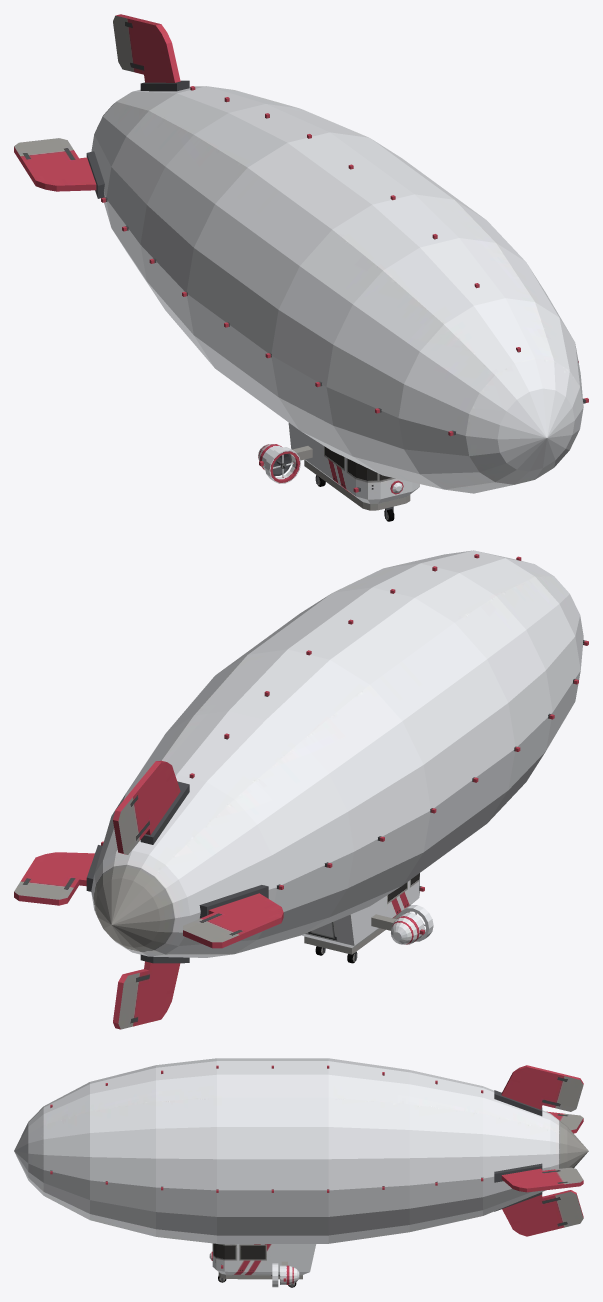
File: Blimp-transformed.glb
3 renders of one model, top to bottom at view 1: azimuth 30°, elevation 25°; view 2: azimuth 150°, elevation 25°; view 3: azimuth 270°, elevation 25°, orthographic. The views are drawn at different scales.
Visible parts, largest first — view 1: c; view 2: c; view 3: c.
Part boxes in pixels (x1,y1,x2,y2): c: (14, 14, 588, 521); c: (14, 550, 588, 1029); c: (14, 1058, 588, 1287).
Bounding box in the file's own units: 400 × 495 × 1195.
1 material, 1 textured.
